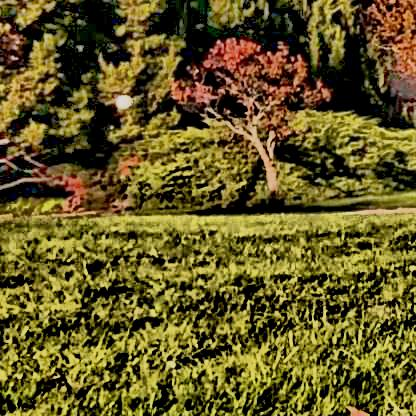golfball: (112, 91, 129, 106)
